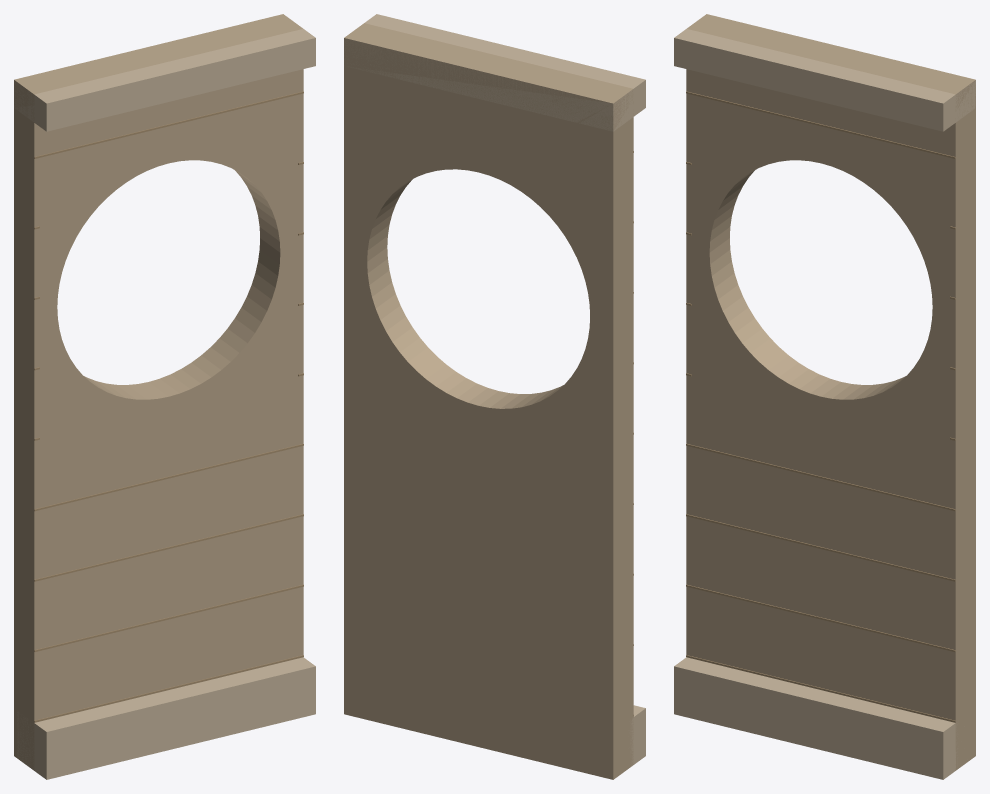
Rendered from wall_rose_2m.glb.
The picture shows the model from 3 angles, left to right: view 1: azimuth 30°, elevation 25°; view 2: azimuth 150°, elevation 25°; view 3: azimuth 330°, elevation 25°; orthographic projection.
Parts seen in each view (by area): view 1: wall_rose_2m; view 2: wall_rose_2m; view 3: wall_rose_2m.
Boxes of the visible parts, <box> form: wall_rose_2m: <box>14,14,315,779</box>; wall_rose_2m: <box>344,14,645,779</box>; wall_rose_2m: <box>674,14,975,779</box>.
Size of the model in its own units: 2 by 4.8 by 0.42.
